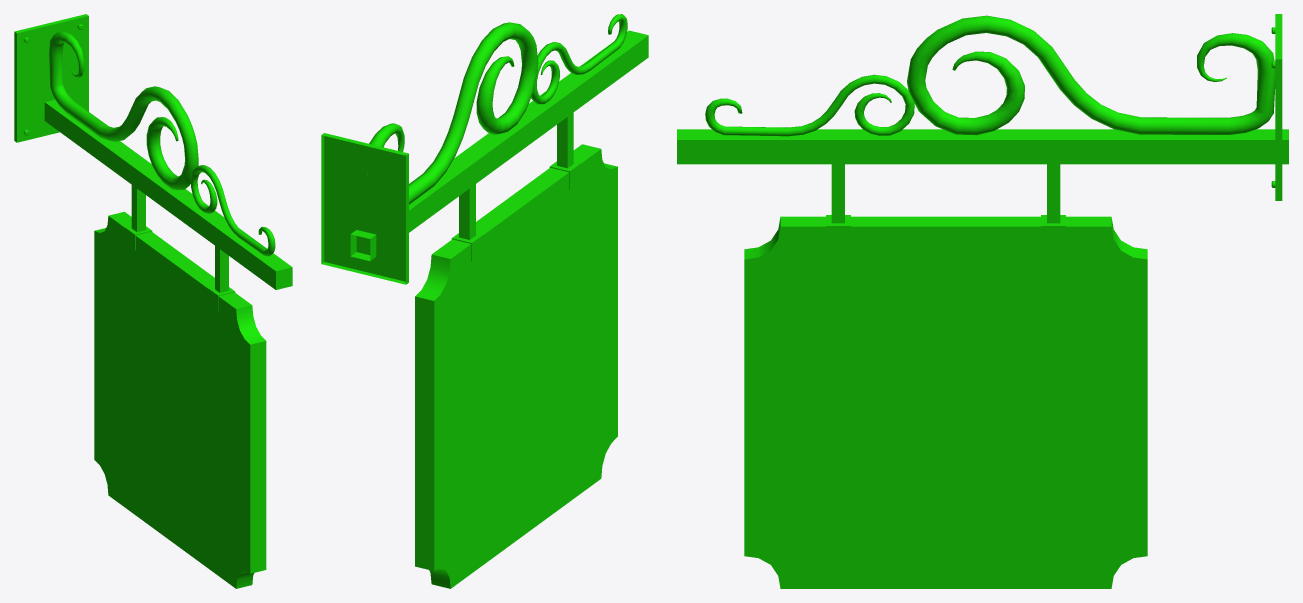
Rendered from SM_town_sidesign.fbx.
3 views of the same model, side by side, from view 1: azimuth 30°, elevation 25°; view 2: azimuth 150°, elevation 25°; view 3: azimuth 270°, elevation 25° (orthographic). The views are drawn at different scales.
Visible parts, largest first — view 1: cafe_sidesign; view 2: cafe_sidesign; view 3: cafe_sidesign.
Part boxes in pixels (bbox=[...]): cafe_sidesign: bbox=[14, 14, 292, 588]; cafe_sidesign: bbox=[321, 14, 648, 588]; cafe_sidesign: bbox=[677, 14, 1288, 588].
Size of the model in its own units: 16 by 93.2 by 91.
